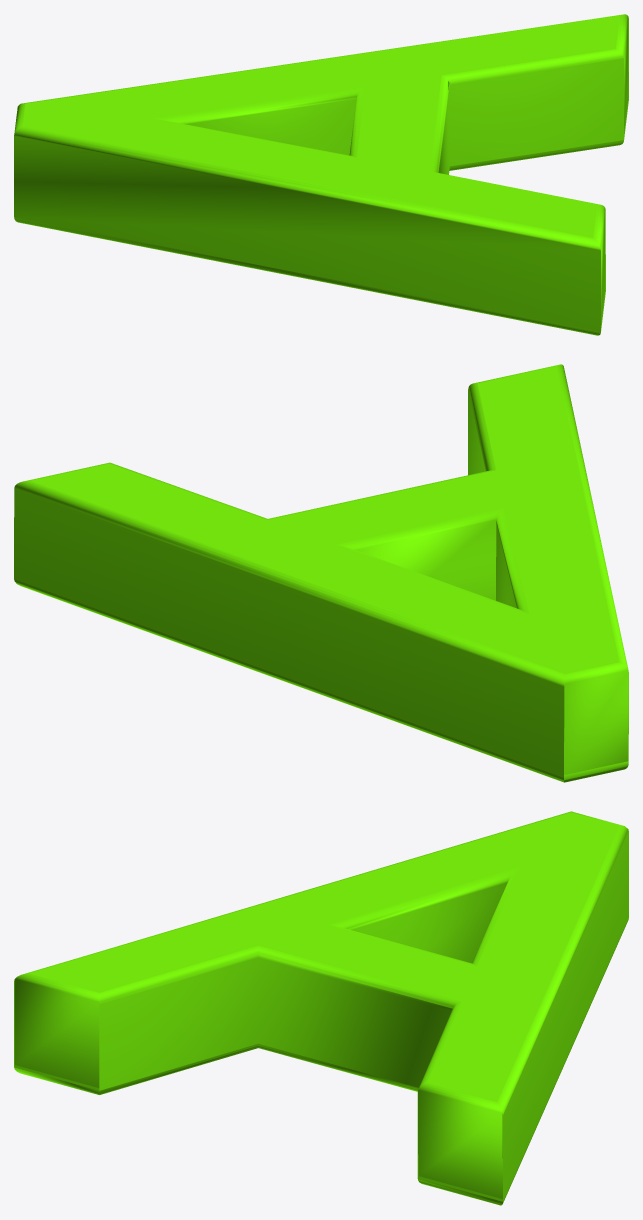
The model's file is ToyObject_201.fbx.
3 views of the same model, one above another, from view 1: azimuth 30°, elevation 25°; view 2: azimuth 150°, elevation 25°; view 3: azimuth 270°, elevation 25° (orthographic). The views are drawn at different scales.
Parts seen in each view (by area): view 1: Object.012; view 2: Object.012; view 3: Object.012.
Part boxes in pixels (box(x1,y1,x2,y2)): Object.012: box(14, 14, 628, 335); Object.012: box(14, 364, 628, 782); Object.012: box(14, 811, 628, 1205).
Size of the model in its own units: 0.1786 by 0.0284 by 0.1549.
